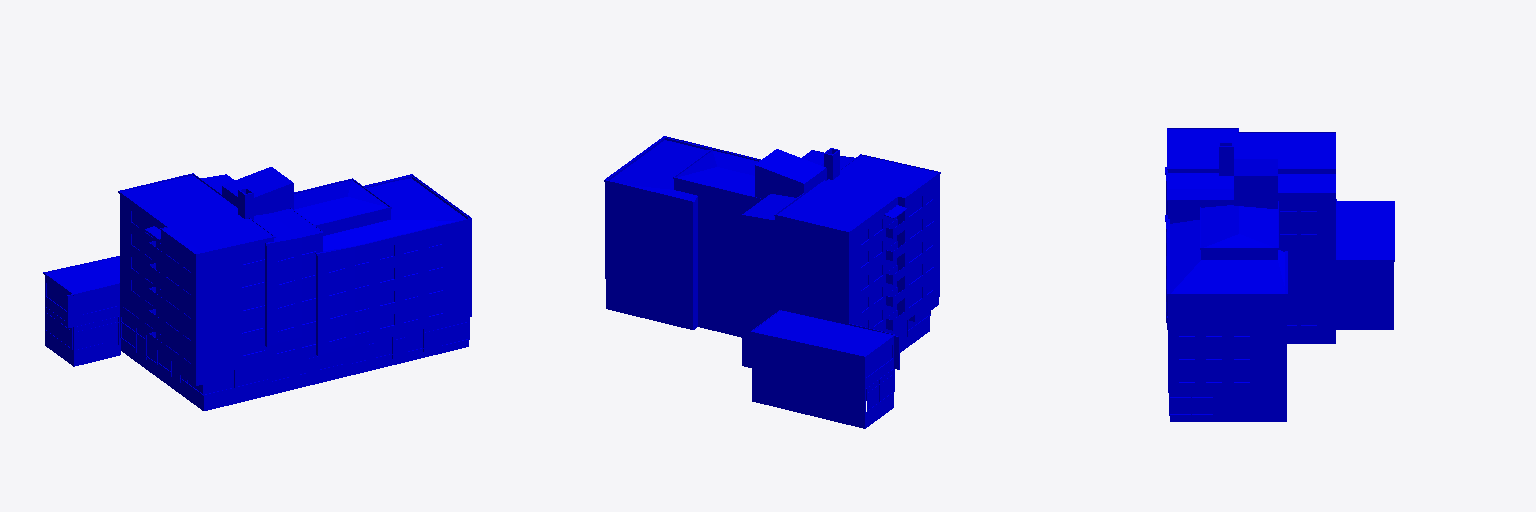
File: isokatu_10.obj
3 renders of one model, left to right at view 1: azimuth 30°, elevation 25°; view 2: azimuth 150°, elevation 25°; view 3: azimuth 270°, elevation 25°, orthographic.
Visible parts, largest first — view 1: Object_1; view 2: Object_1; view 3: Object_1.
Boxes of the visible parts, <box> form: Object_1: <box>43,167,471,410</box>; Object_1: <box>604,136,940,428</box>; Object_1: <box>1165,128,1394,421</box>.
Bounding box in the file's own units: 41.38 × 23.13 × 25.82.